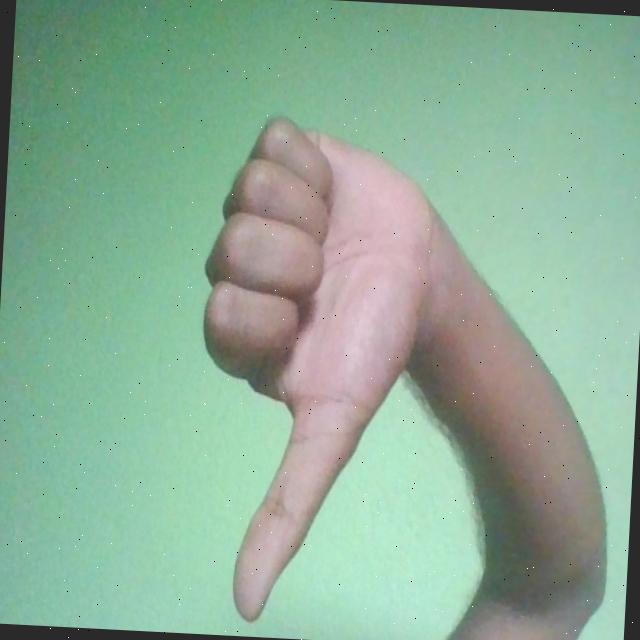Dislike: (186, 114, 442, 628)
